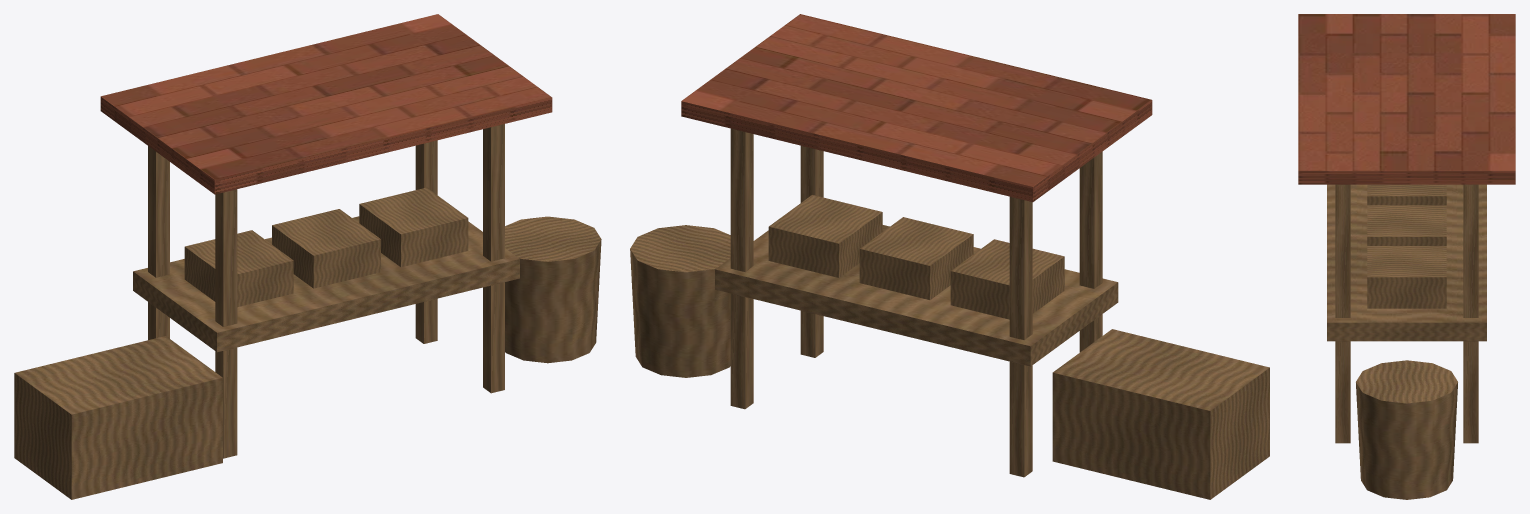
The picture shows the model from 3 angles, left to right: view 1: azimuth 30°, elevation 25°; view 2: azimuth 150°, elevation 25°; view 3: azimuth 270°, elevation 25°; orthographic projection. The views are drawn at different scales.
Visible parts, largest first — view 1: market-wood, market-roof; view 2: market-wood, market-roof; view 3: market-wood, market-roof.
Boxes of the visible parts, <box> form: market-wood: <box>14,124,601,499</box>; market-roof: <box>100,14,552,194</box>; market-wood: <box>630,128,1269,499</box>; market-roof: <box>681,14,1152,201</box>; market-wood: <box>1327,184,1486,499</box>; market-roof: <box>1298,14,1515,184</box>.
Bounding box in the file's own units: 4.85 × 2.46 × 1.7.
2 materials, 2 textured.
